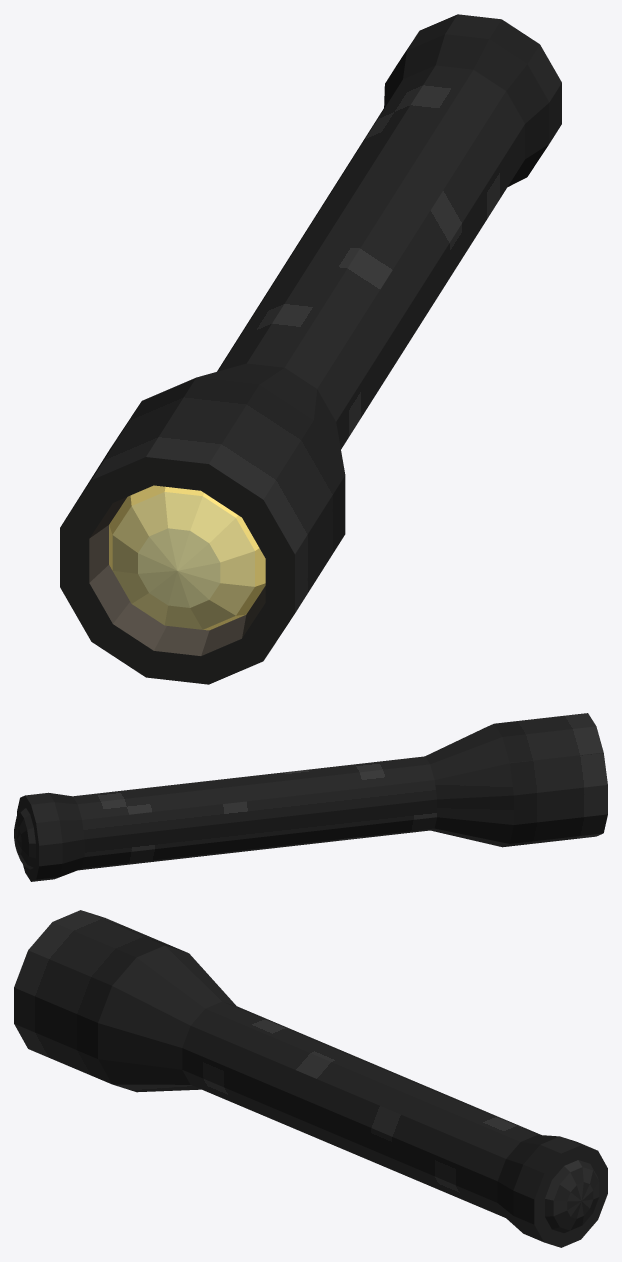
File: flashlight.gltf
3 views of the same model, one above another, from view 1: azimuth 30°, elevation 25°; view 2: azimuth 150°, elevation 25°; view 3: azimuth 270°, elevation 25° (orthographic). The views are drawn at different scales.
Visible parts, largest first — view 1: body, light; view 2: body, button; view 3: body, button.
Boxes of the visible parts, left/top/right/bottom form: body: left=60, top=14, right=561, bottom=684; light: left=109, top=485, right=265, bottom=630; body: left=17, top=713, right=607, bottom=881; button: left=14, top=808, right=35, bottom=869; body: left=14, top=910, right=607, bottom=1247; button: left=545, top=1160, right=599, bottom=1232.
Size of the model in its own units: 1.25 by 0.3125 by 1.25.
Materials: 2 (2 with a texture image).
